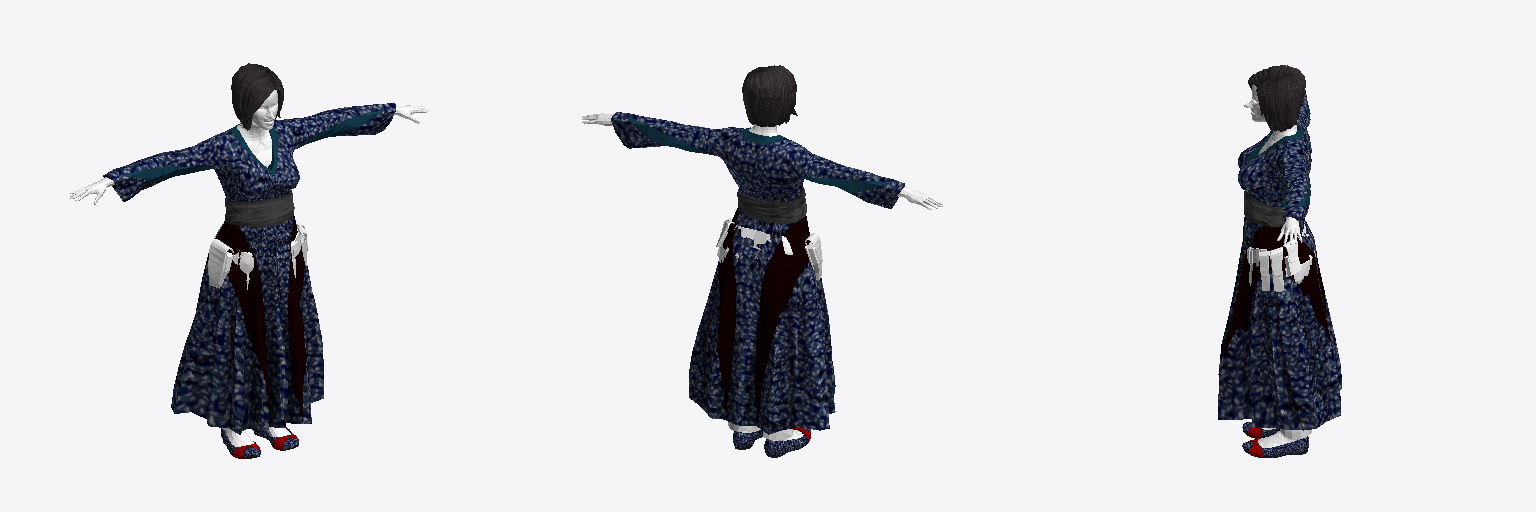
3 views of the same model, side by side, from view 1: azimuth 30°, elevation 25°; view 2: azimuth 150°, elevation 25°; view 3: azimuth 270°, elevation 25° (orthographic).
Parts seen in each view (by area): view 1: Tops, Body, Hair, Bottoms, Shoes; view 2: Tops, Hair, Bottoms, Body, Shoes; view 3: Tops, Hair, Bottoms, Body, Shoes.
Part boxes in pixels (x1,y1,x2,y2): Tops: (103,103,395,434); Body: (70,90,430,446); Hair: (231,63,283,130); Bottoms: (207,218,307,429); Shoes: (221,427,298,458); Tops: (611,112,904,434); Hair: (742,65,797,126); Bottoms: (716,218,822,440); Body: (581,113,942,440); Shoes: (733,427,810,457); Tops: (1218,90,1341,430); Hair: (1248,65,1305,131); Bottoms: (1247,222,1315,439); Body: (1244,84,1302,447); Shoes: (1242,422,1308,457).
Size of the model in its own units: 173 by 172 by 51.84.
Materials: 5 (3 with a texture image).